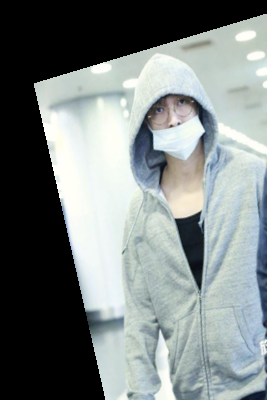mask_weared_incorrect: (122, 45, 230, 178)
